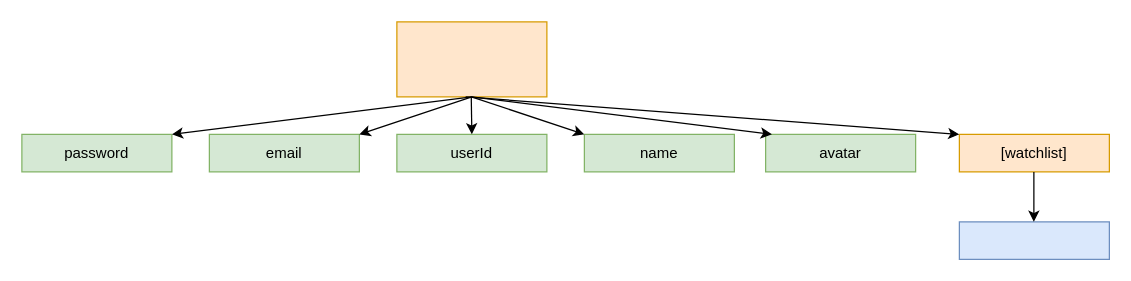
Image size: 1131x281. Some labels were removed from this diagram. Here are the shapes that lost their labels. From the top down, the centre of each, then its label:
At (x=471, y=59): "User".
At (x=1033, y=240): "{movieId}".
